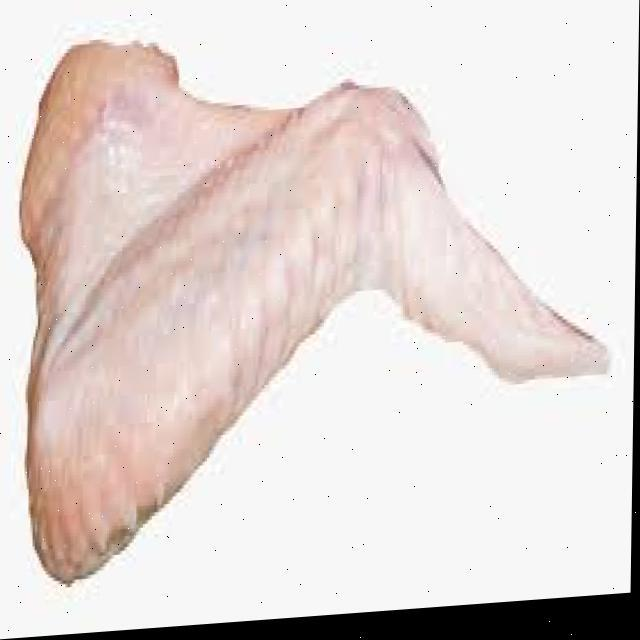wing: (10, 9, 625, 605)
